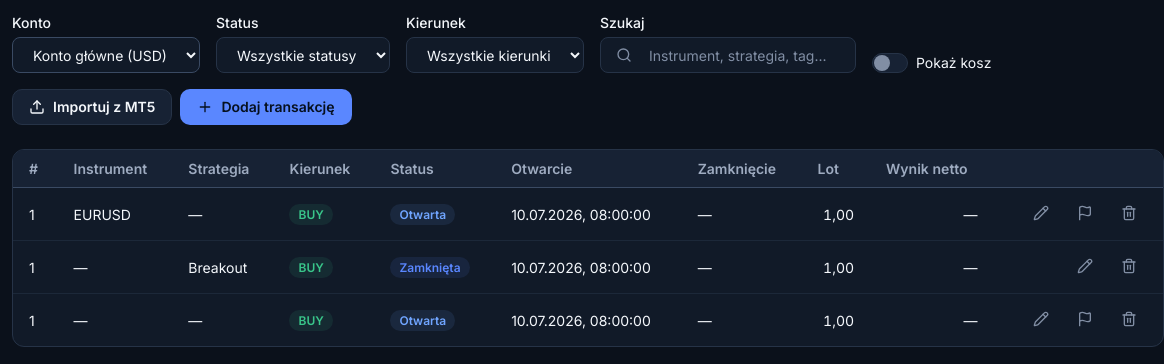
Test case: TransactionsPage › szukanie dopasowuje instrument LUB strategię, połączone z filtrem statusu przez AND
The image size is (1164, 364).
Expected: the table is shown, [13, 150, 1163, 346]
Expected: the number of buttons named "Otwórz szczegóły" is 3, [13, 188, 1163, 240]; [13, 240, 1163, 294]; [13, 294, 1163, 346]
In the field labelled "Szukaj": (728, 55) [600, 37, 856, 73], type "breakout"
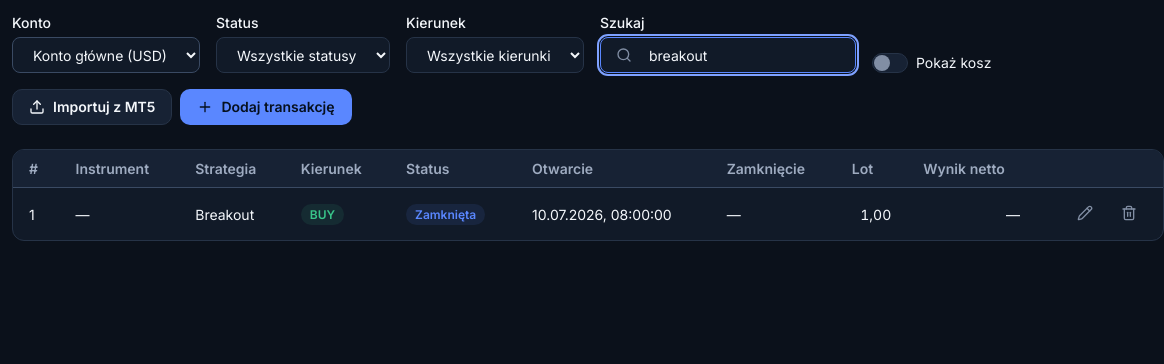
Now the number of buttons named "Otwórz szczegóły" is 1, box [13, 188, 1163, 240]
Select "Otwarta" in the dropdown labelled "Status": (303, 55) [216, 37, 390, 73]
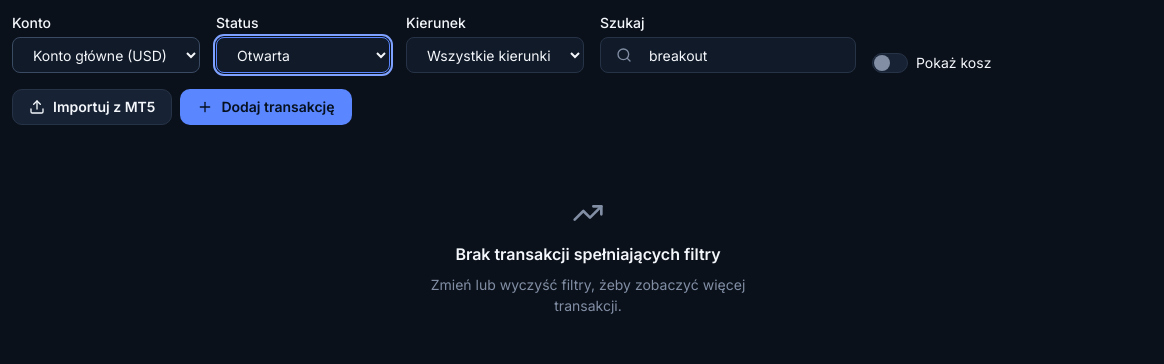
Now the text "Brak transakcji spełniających filtry" is shown, box [455, 242, 721, 266]
